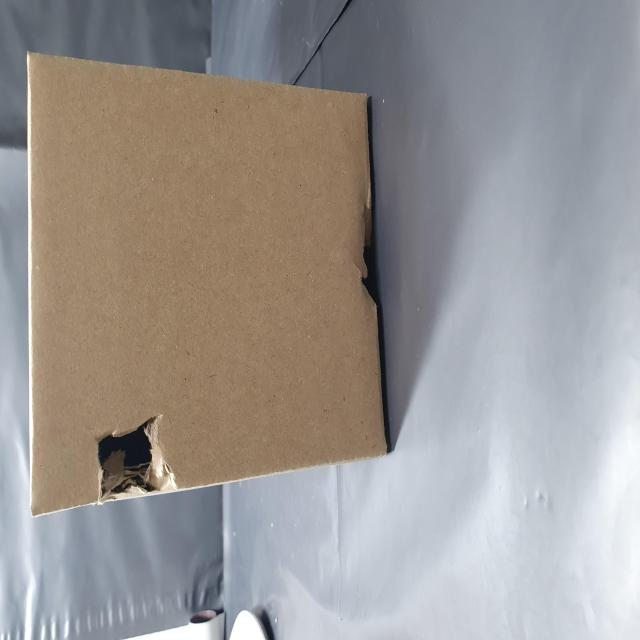damaged: (77, 161, 138, 312)
